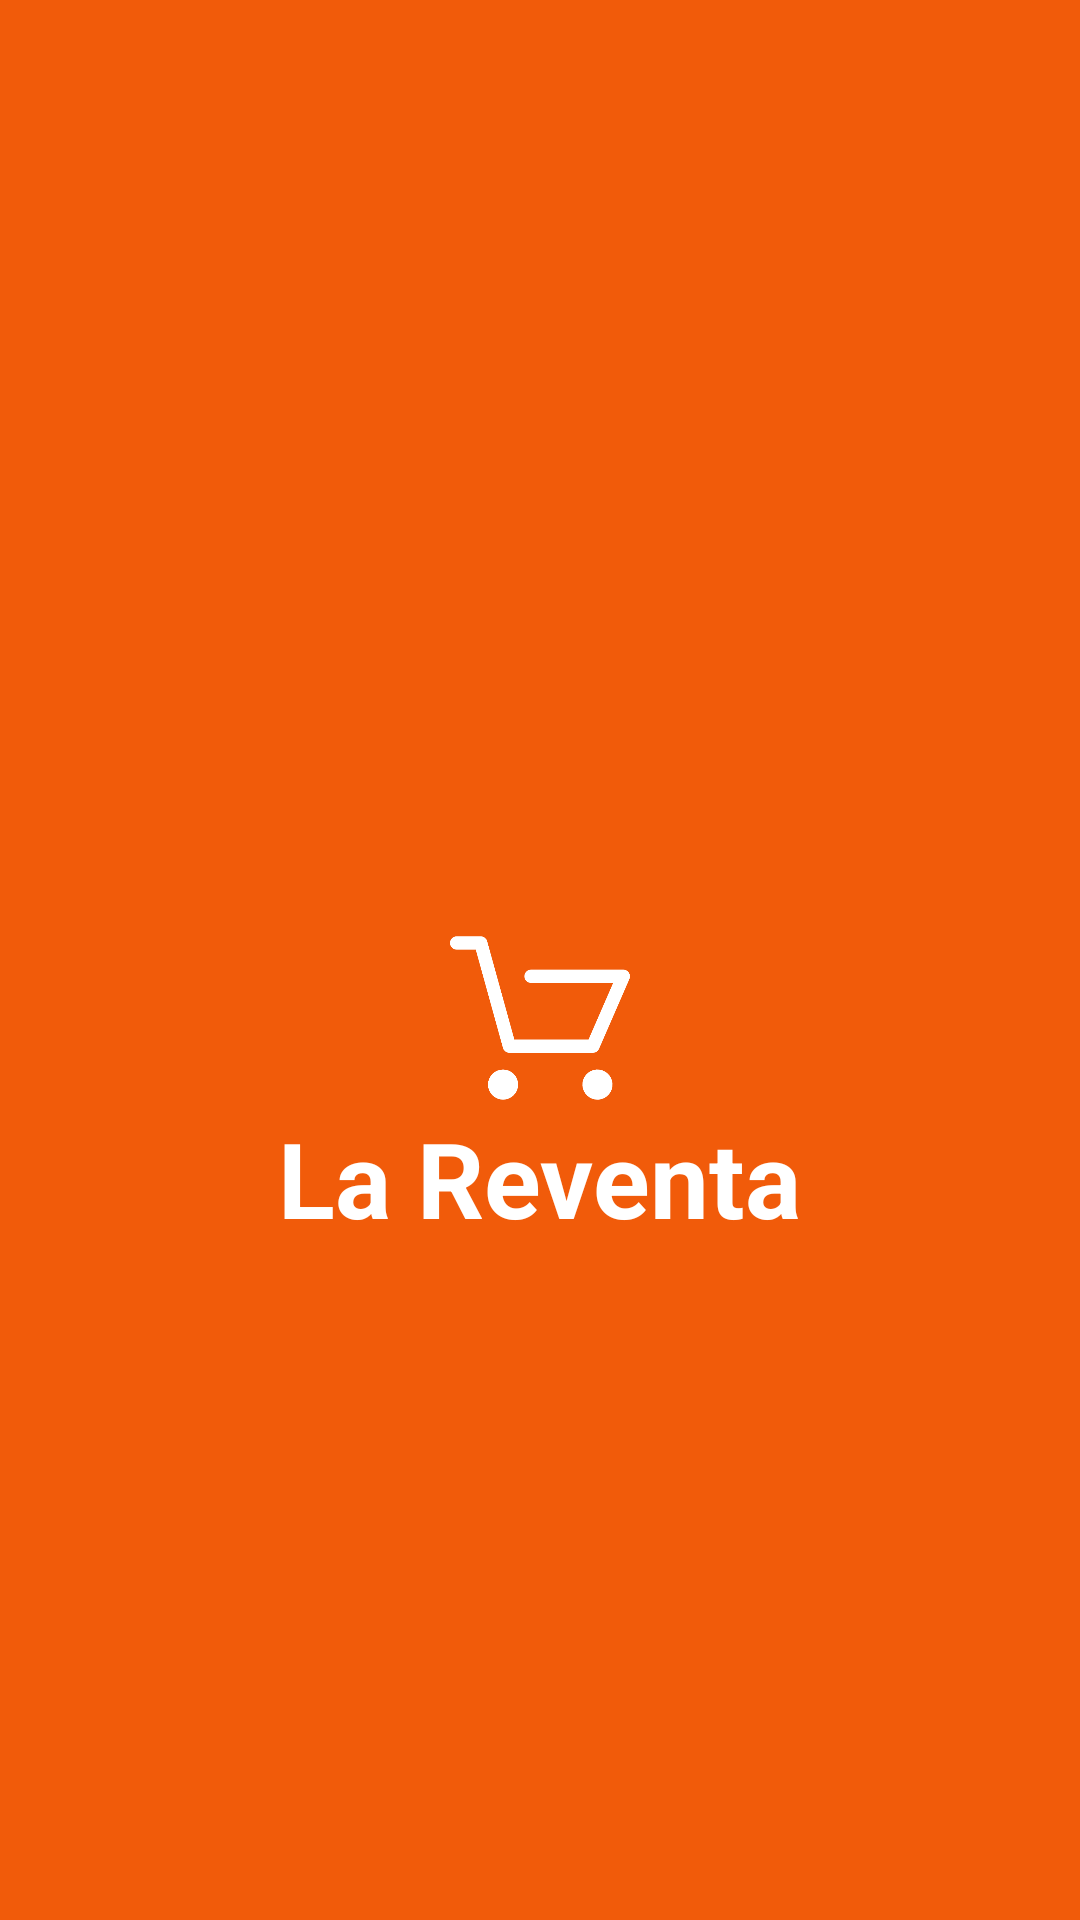

Icon bounding boxes for this 1080*1920 phone screenshot, format (x1, y1, x2, y2):
ocart: (450, 936, 630, 1100)
